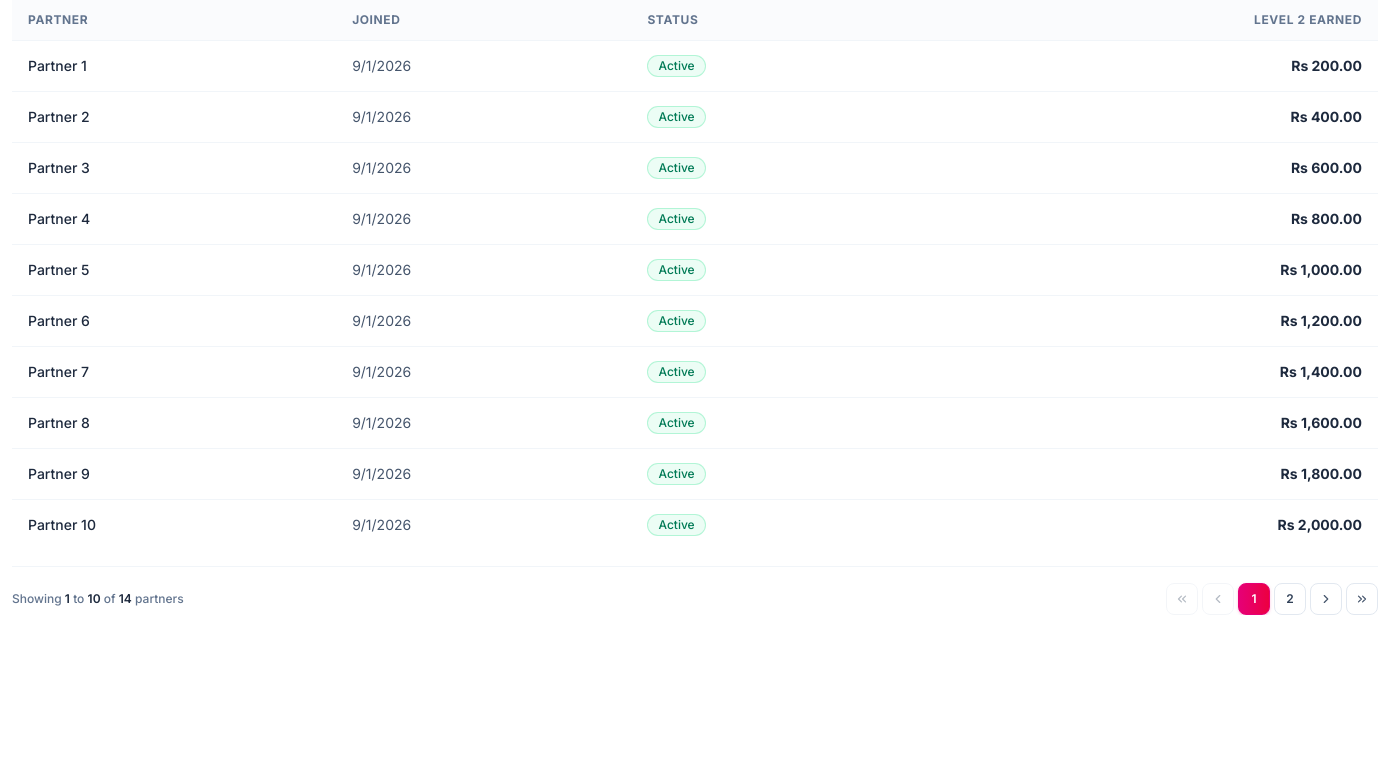
Test: RecruitTable Pagination › limits display to 10 recruits and allows pagination
The image size is (1390, 768).
expect the text "Partner 1" is shown: met, box [12, 40, 336, 92]
expect the text "Partner 10" is shown: met, box [12, 500, 336, 550]
Click the button named "Page 2" at [1290, 599], box [1274, 583, 1306, 615]
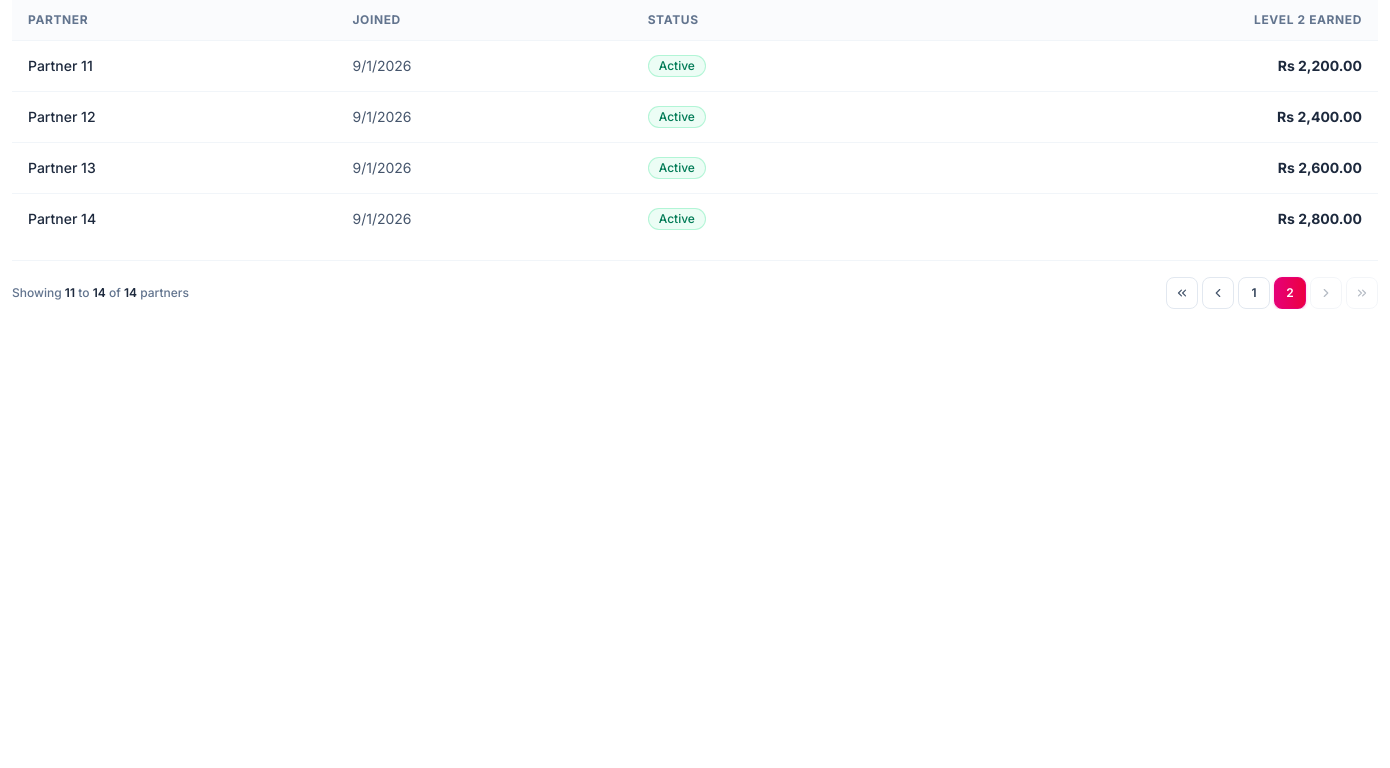
expect the text "Partner 11" is shown: met, box [12, 40, 336, 92]
